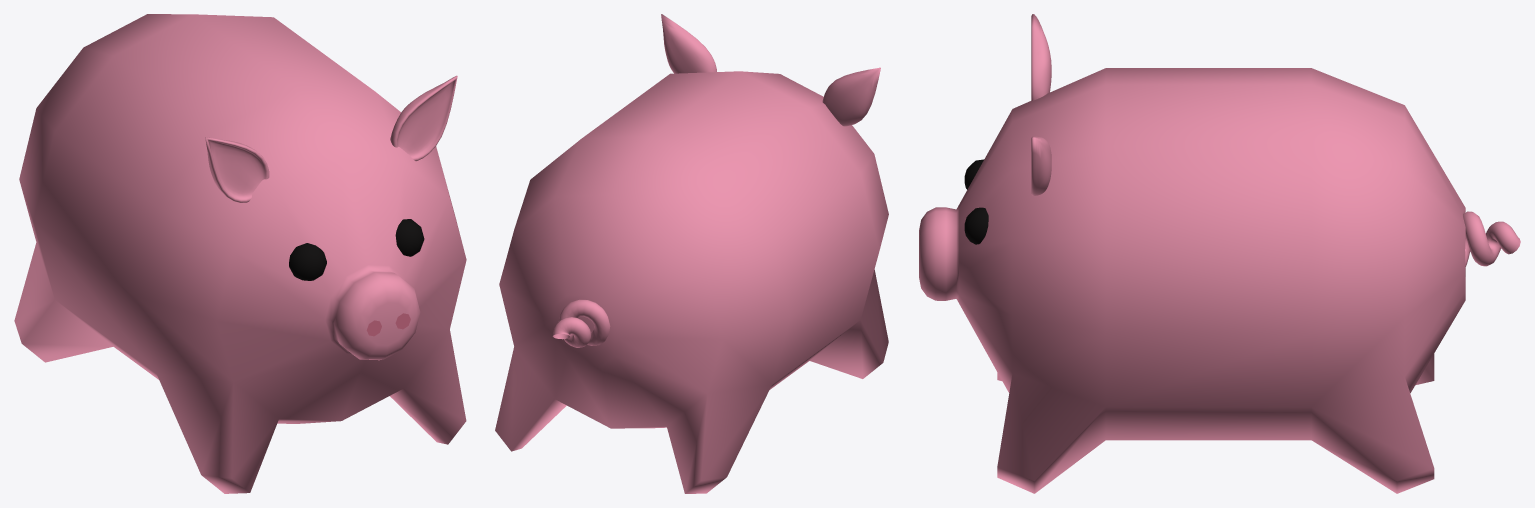
Rendered from Piggy.fbx.
The picture shows the model from 3 angles, left to right: view 1: azimuth 30°, elevation 25°; view 2: azimuth 150°, elevation 25°; view 3: azimuth 270°, elevation 25°; orthographic projection. The views are drawn at different scales.
Parts seen in each view (by area): view 1: pigy; view 2: pigy; view 3: pigy.
Part boxes in pixels (left/top/right/bottom): pigy: left=14, top=14, right=466, bottom=493; pigy: left=495, top=14, right=888, bottom=493; pigy: left=919, top=14, right=1520, bottom=493.
Size of the model in its own units: 100 by 108 by 162.
Materials: 1 (1 with a texture image).
